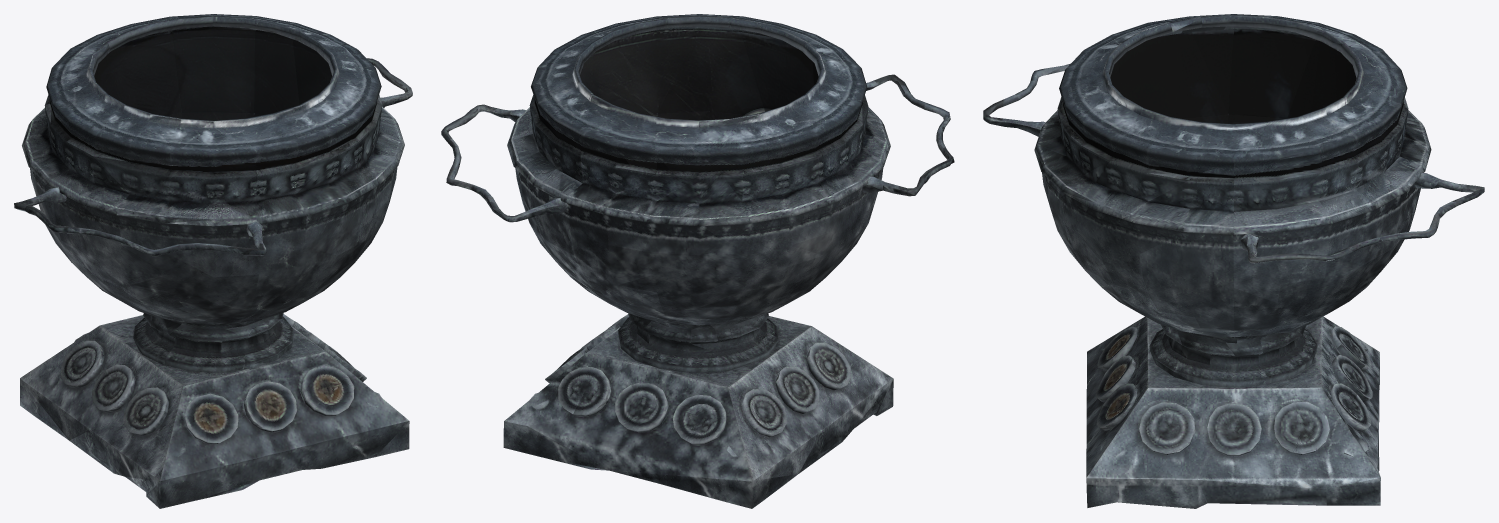
File: brazier.glb
The picture shows the model from 3 angles, left to right: view 1: azimuth 30°, elevation 25°; view 2: azimuth 150°, elevation 25°; view 3: azimuth 270°, elevation 25°; orthographic projection. The views are drawn at different scales.
Bounding box in the file's own units: 1 × 0.8268 × 1.
1 material, 1 textured.
